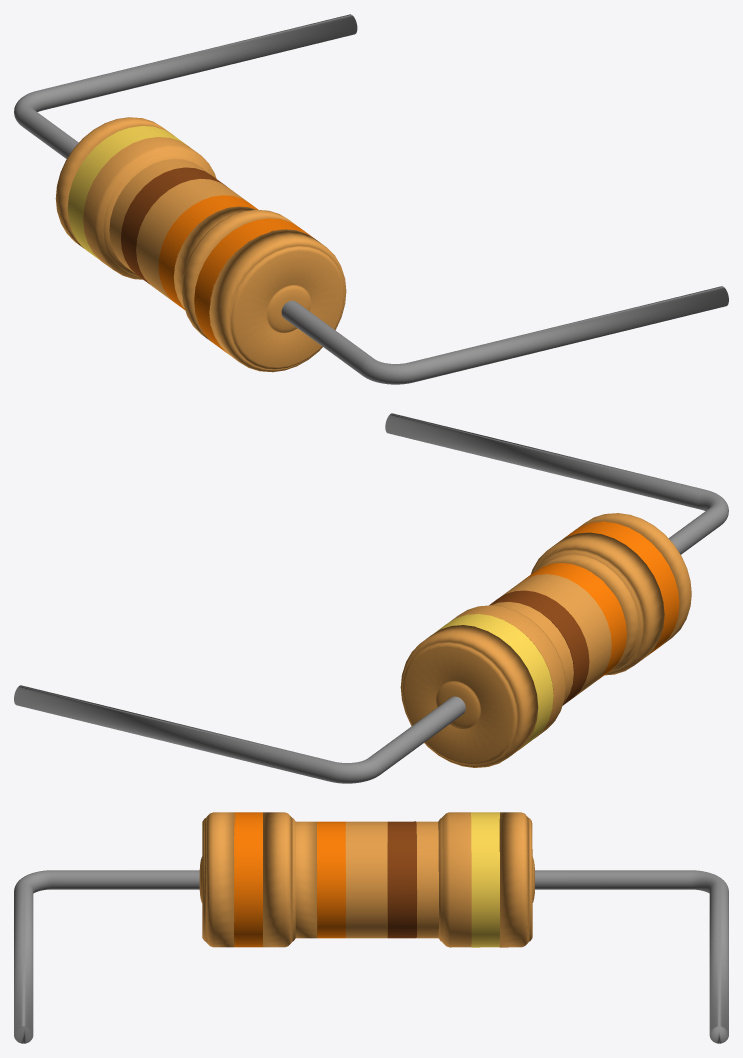
Rendered from resistencia_330_ohms.fbx.
3 views of the same model, one above another, from view 1: azimuth 30°, elevation 25°; view 2: azimuth 150°, elevation 25°; view 3: azimuth 270°, elevation 25° (orthographic). The views are drawn at different scales.
Visible parts, largest first — view 1: Cilindro10, Cilindro01, Cilindro07, Cilindro03, Cilindro05, Cilindro08, Cilindro02, Cilindro06, Cilindro04, Cilindro09; view 2: Cilindro10, Cilindro09, Cilindro03, Cilindro07, Cilindro05, Cilindro08, Cilindro02, Cilindro06, Cilindro04, Cilindro01; view 3: Cilindro10, Cilindro07, Cilindro03, Cilindro05, Cilindro09, Cilindro01, Cilindro08, Cilindro02, Cilindro06, Cilindro04.
Part boxes in pixels (x1,y1,x2,y2): Cilindro10: [14, 14, 728, 384]; Cilindro01: [209, 229, 346, 372]; Cilindro07: [83, 137, 216, 279]; Cilindro03: [173, 206, 299, 341]; Cilindro05: [136, 178, 248, 301]; Cilindro08: [67, 126, 188, 259]; Cilindro02: [194, 218, 314, 352]; Cilindro06: [121, 167, 226, 284]; Cilindro04: [158, 195, 258, 309]; Cilindro09: [55, 117, 173, 248]; Cilindro10: [14, 413, 728, 783]; Cilindro09: [400, 625, 538, 767]; Cilindro03: [531, 532, 664, 675]; Cilindro07: [450, 602, 573, 737]; Cilindro05: [500, 574, 611, 696]; Cilindro08: [435, 614, 553, 748]; Cilindro02: [559, 521, 679, 655]; Cilindro06: [489, 590, 589, 705]; Cilindro04: [521, 563, 626, 680]; Cilindro01: [575, 513, 691, 644]; Cilindro10: [14, 870, 728, 1043]; Cilindro07: [416, 812, 471, 947]; Cilindro03: [263, 812, 317, 947]; Cilindro05: [345, 821, 387, 938]; Cilindro09: [499, 812, 534, 947]; Cilindro01: [199, 812, 235, 947]; Cilindro08: [471, 812, 499, 947]; Cilindro02: [234, 812, 262, 947]; Cilindro06: [387, 821, 416, 938]; Cilindro04: [317, 821, 345, 938].
Size of the model in its own units: 4498 by 1400 by 7398.
